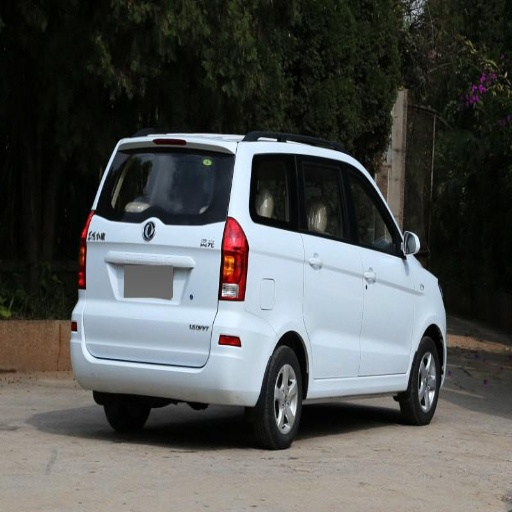back_bumper: (71, 293, 276, 401)
back_right_door: (281, 155, 362, 378)
trunk: (84, 216, 226, 361)
